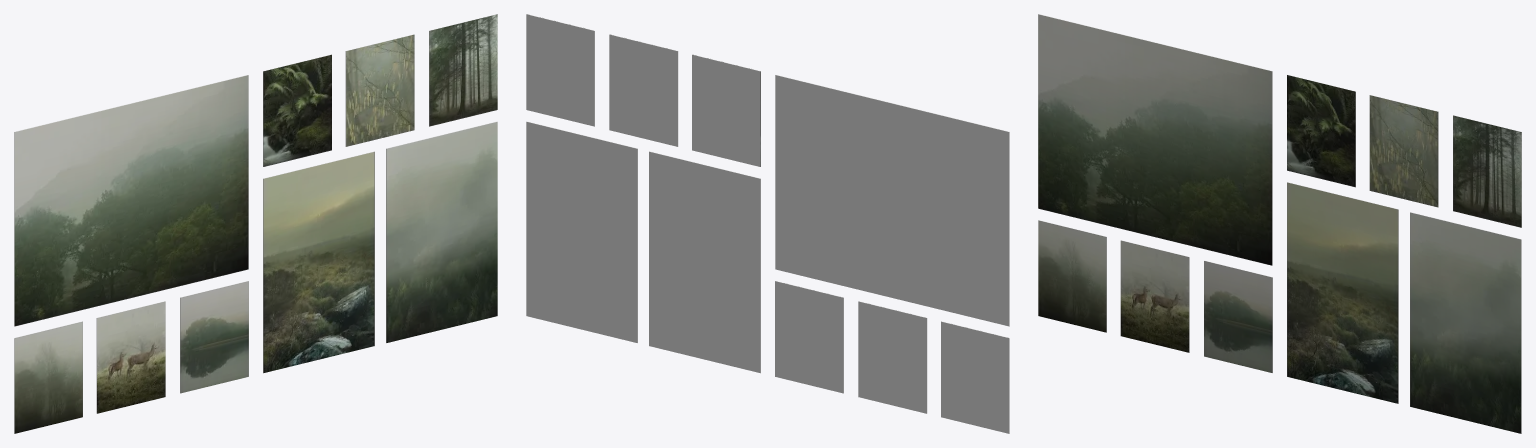
Rendered from LB-ART-03.glb.
The picture shows the model from 3 angles, left to right: view 1: azimuth 30°, elevation 25°; view 2: azimuth 150°, elevation 25°; view 3: azimuth 330°, elevation 25°; orthographic projection.
Visible parts, largest first — view 1: 1, 3, 11, 7, 6, 8, 2, 5, 4, Rectangle008; view 2: Rectangle001, Rectangle008, Rectangle014, Rectangle010, Rectangle013, Rectangle011, Rectangle012, Rectangle002, Rectangle009; view 3: 1, 3, 11, 8, 5, 7, 2, 6, 4, Rectangle001.
Boxes of the visible parts, <box> form: 1: <box>14,75,248,326</box>; 3: <box>263,152,374,373</box>; 11: <box>386,122,497,342</box>; 7: <box>429,14,497,126</box>; 6: <box>263,54,331,166</box>; 8: <box>346,34,414,146</box>; 2: <box>14,321,82,433</box>; 5: <box>97,301,165,413</box>; 4: <box>180,281,248,393</box>; Rectangle008: <box>263,151,374,372</box>; Rectangle001: <box>775,75,1009,326</box>; Rectangle008: <box>649,151,760,373</box>; Rectangle014: <box>526,121,637,342</box>; Rectangle010: <box>858,301,927,413</box>; Rectangle013: <box>609,34,678,146</box>; Rectangle011: <box>692,54,760,166</box>; Rectangle012: <box>526,14,594,126</box>; Rectangle002: <box>941,321,1009,433</box>; Rectangle009: <box>775,281,843,393</box>; 1: <box>1038,14,1272,265</box>; 3: <box>1287,182,1398,403</box>; 11: <box>1410,212,1521,433</box>; 8: <box>1369,95,1438,207</box>; 5: <box>1120,240,1189,352</box>; 7: <box>1453,115,1521,227</box>; 2: <box>1038,220,1106,332</box>; 6: <box>1287,75,1355,187</box>; 4: <box>1204,261,1272,372</box>; Rectangle001: <box>1038,14,1272,265</box>.
Size of the model in its own units: 1.69 by 1.01 by 0.0024.
2 materials, 1 textured.
